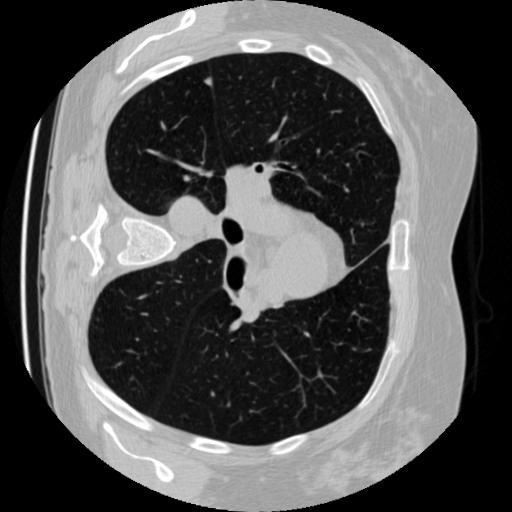nodule: (203, 77, 217, 91)
